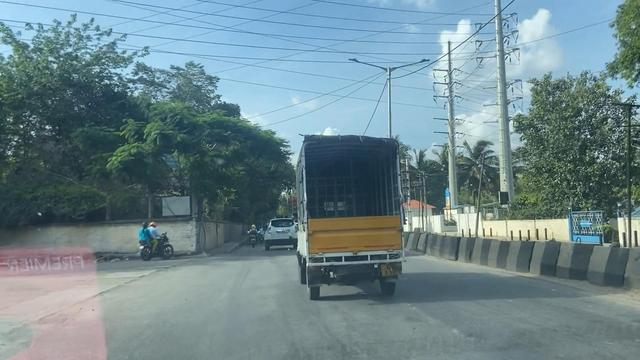HMV: (298, 134, 404, 293)
RoadDamages: (11, 266, 170, 331)
UnsurfacedRoad: (398, 296, 485, 358)
